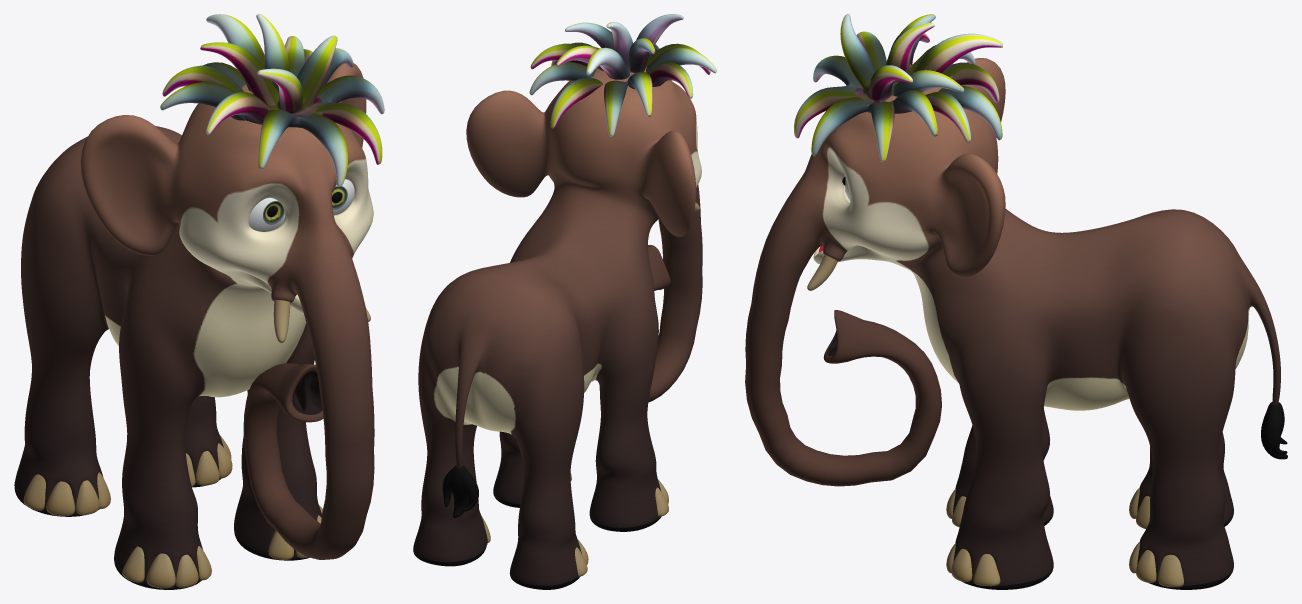
Rendered from Trompadu.glb.
3 views of the same model, side by side, from view 1: azimuth 30°, elevation 25°; view 2: azimuth 150°, elevation 25°; view 3: azimuth 270°, elevation 25° (orthographic). The views are drawn at different scales.
Visible parts, largest first — view 1: Trompadu; view 2: Trompadu; view 3: Trompadu.
Part boxes in pixels (x1=…): Trompadu: x1=14, y1=14, x2=384, y2=589; Trompadu: x1=413, y1=14, x2=716, y2=589; Trompadu: x1=745, y1=14, x2=1287, y2=589.
Size of the model in its own units: 0.1439 by 0.2769 by 0.2587.
Materials: 1 (1 with a texture image).
